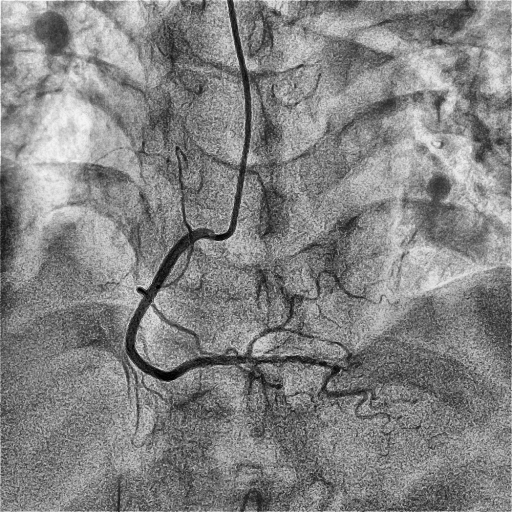pborca: (244, 296, 294, 356)
pda: (251, 356, 390, 428)
rca: (126, 231, 249, 381)
